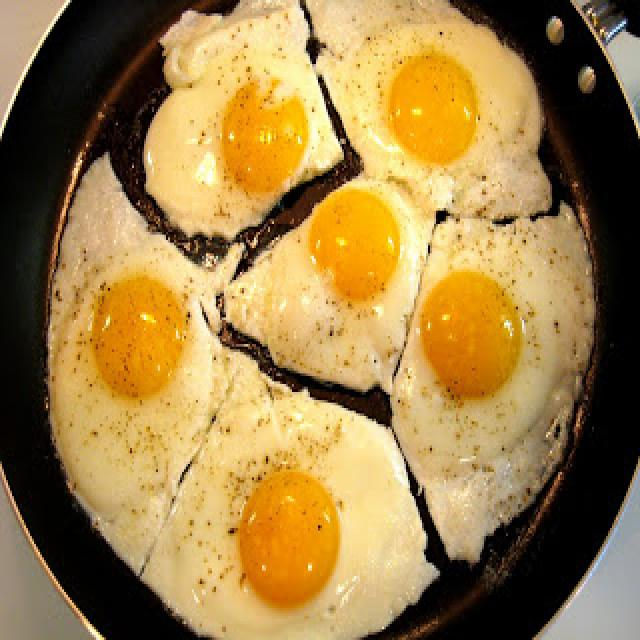Egg: (142, 355, 438, 638), (49, 155, 239, 572), (391, 207, 595, 476), (145, 0, 344, 239), (316, 17, 551, 219), (225, 177, 434, 392)
